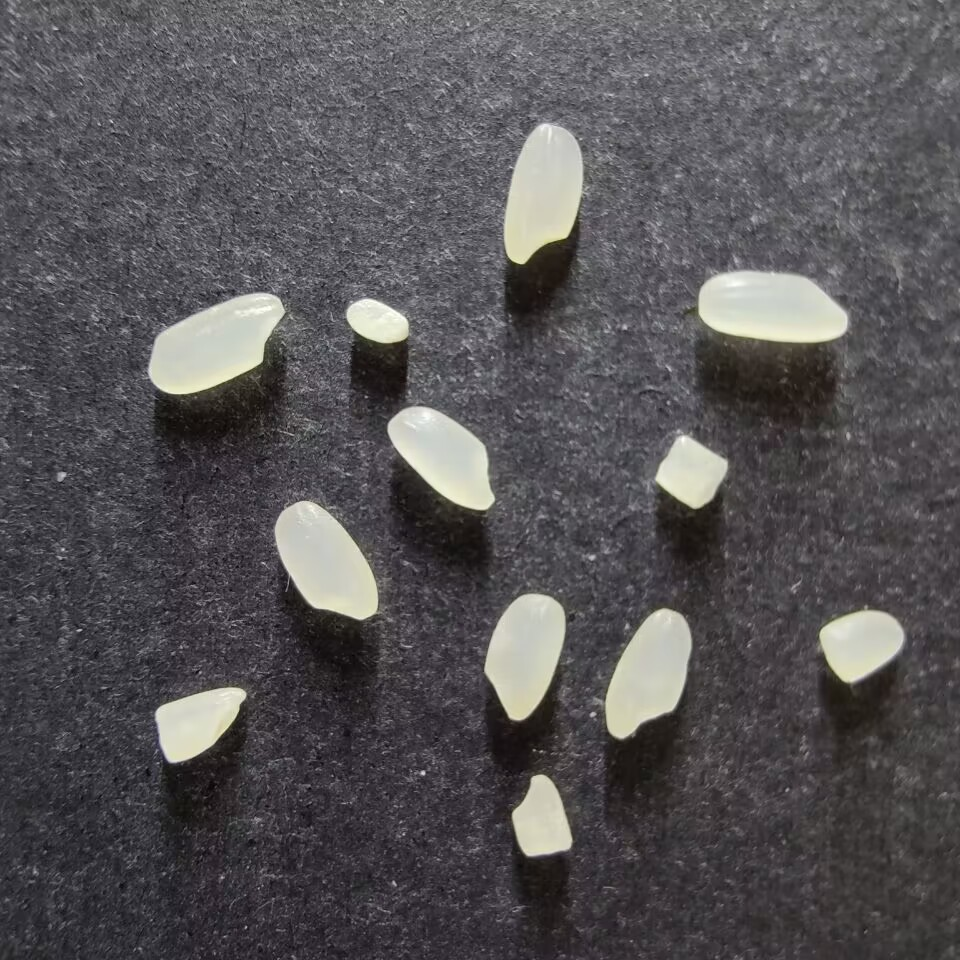broken: (154, 686, 247, 764), (818, 611, 904, 683), (655, 435, 728, 509), (511, 774, 572, 857), (345, 298, 409, 344)
rice: (147, 292, 285, 395), (274, 500, 378, 620), (604, 607, 691, 738), (387, 406, 495, 511), (503, 123, 583, 264), (697, 270, 848, 342), (483, 593, 566, 721)
